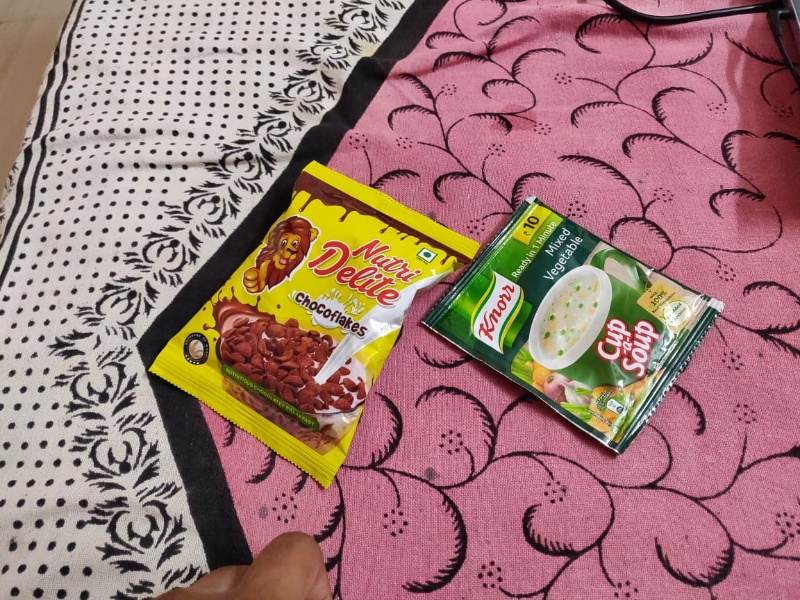Knorr_Cup_Soup: (423, 203, 711, 441)
nutriDelite: (148, 103, 470, 481)
